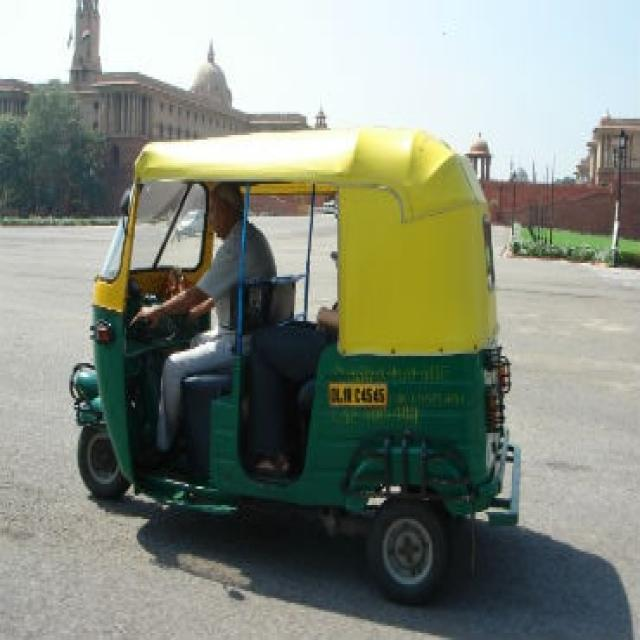autorickshaw: (71, 129, 520, 601)
